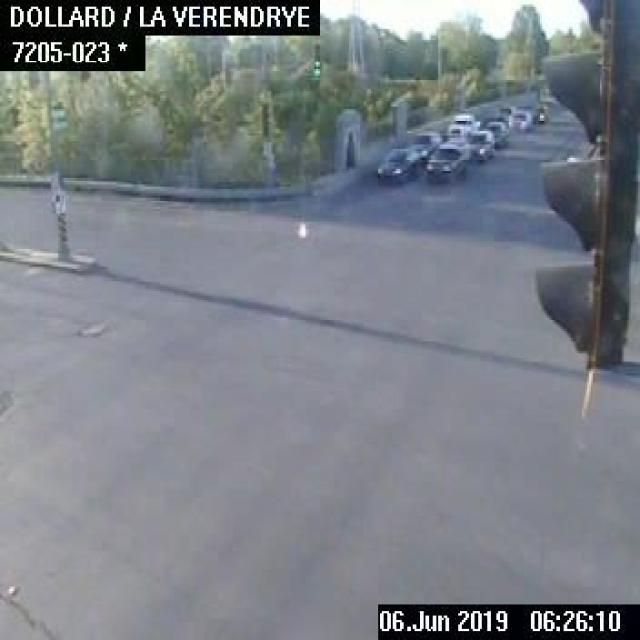vehicle: (424, 139, 466, 184), (376, 147, 416, 182), (464, 128, 495, 162), (409, 131, 443, 159), (444, 111, 473, 140), (485, 119, 508, 147), (507, 108, 531, 134), (530, 101, 548, 121), (492, 104, 514, 120)
